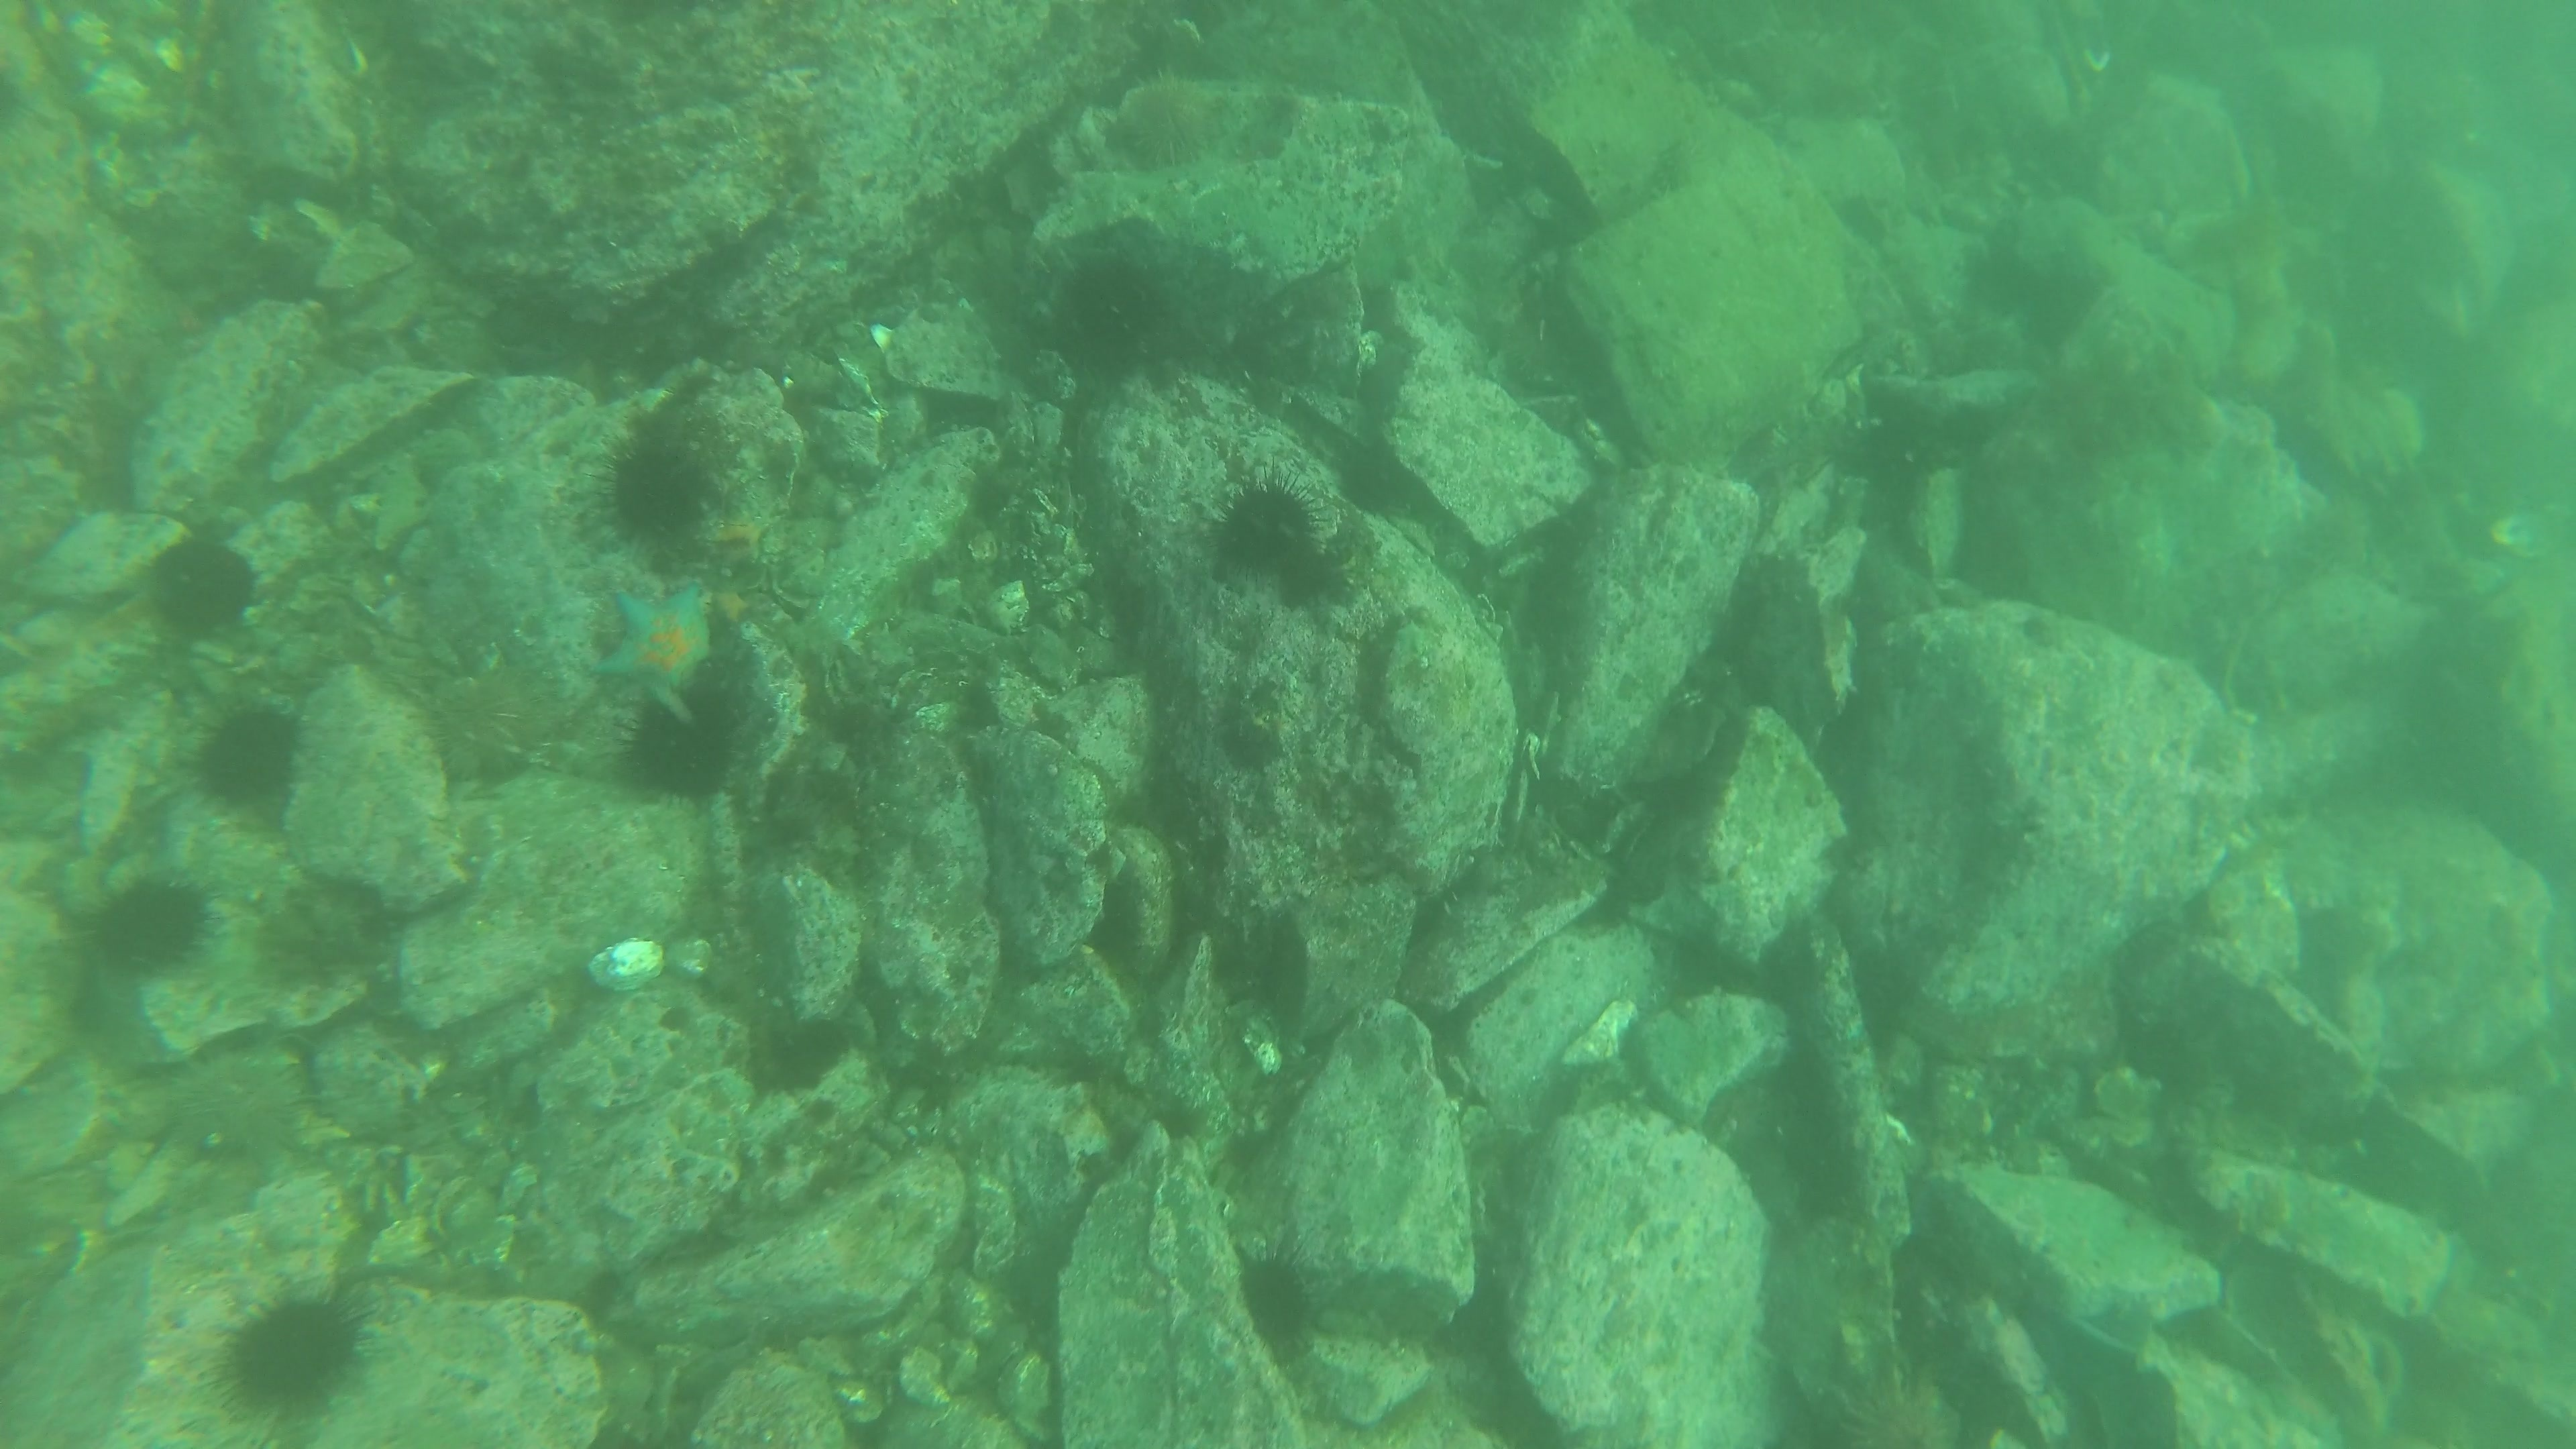echinus: (205, 1283, 375, 1424), (150, 1047, 311, 1177), (414, 653, 563, 789), (1046, 246, 1182, 380), (249, 867, 396, 991), (1201, 471, 1332, 589), (81, 869, 218, 982), (594, 426, 722, 547), (1100, 67, 1237, 175), (186, 697, 311, 814), (1801, 1362, 1973, 1447), (140, 529, 262, 644), (614, 697, 741, 805), (1228, 1240, 1329, 1361)
starfish: (591, 575, 725, 713), (695, 490, 784, 579)
